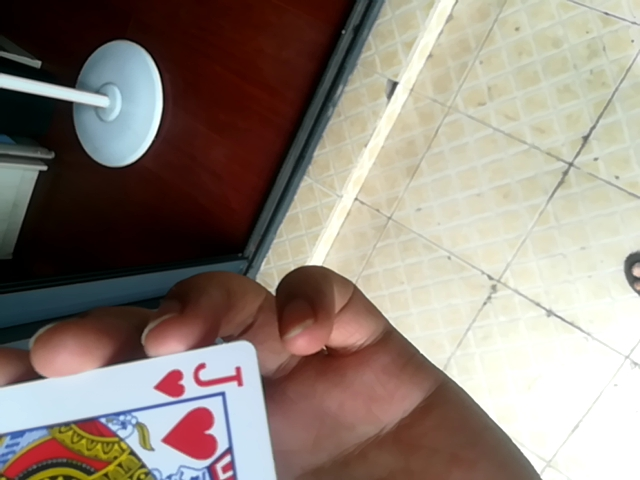hx j: (0, 339, 291, 480)
